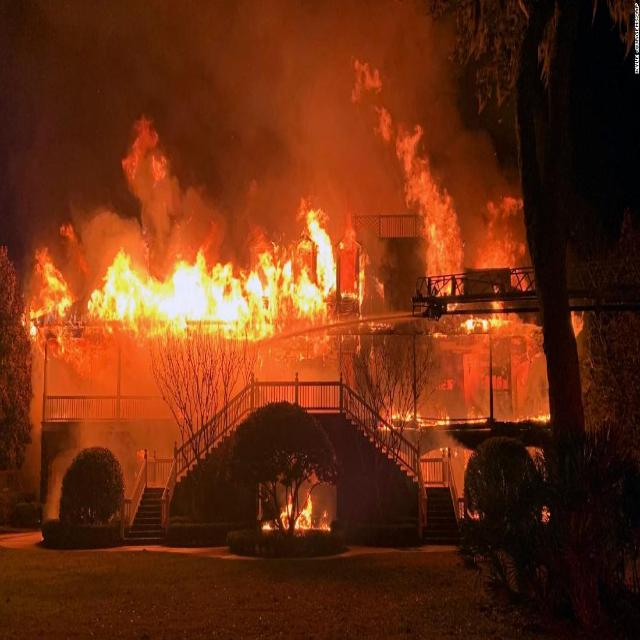Fire: (26, 113, 390, 354), (346, 44, 542, 348), (294, 489, 332, 531), (380, 406, 424, 434), (281, 491, 293, 533), (468, 403, 490, 425), (526, 407, 549, 423), (435, 407, 452, 427), (260, 520, 274, 532)
